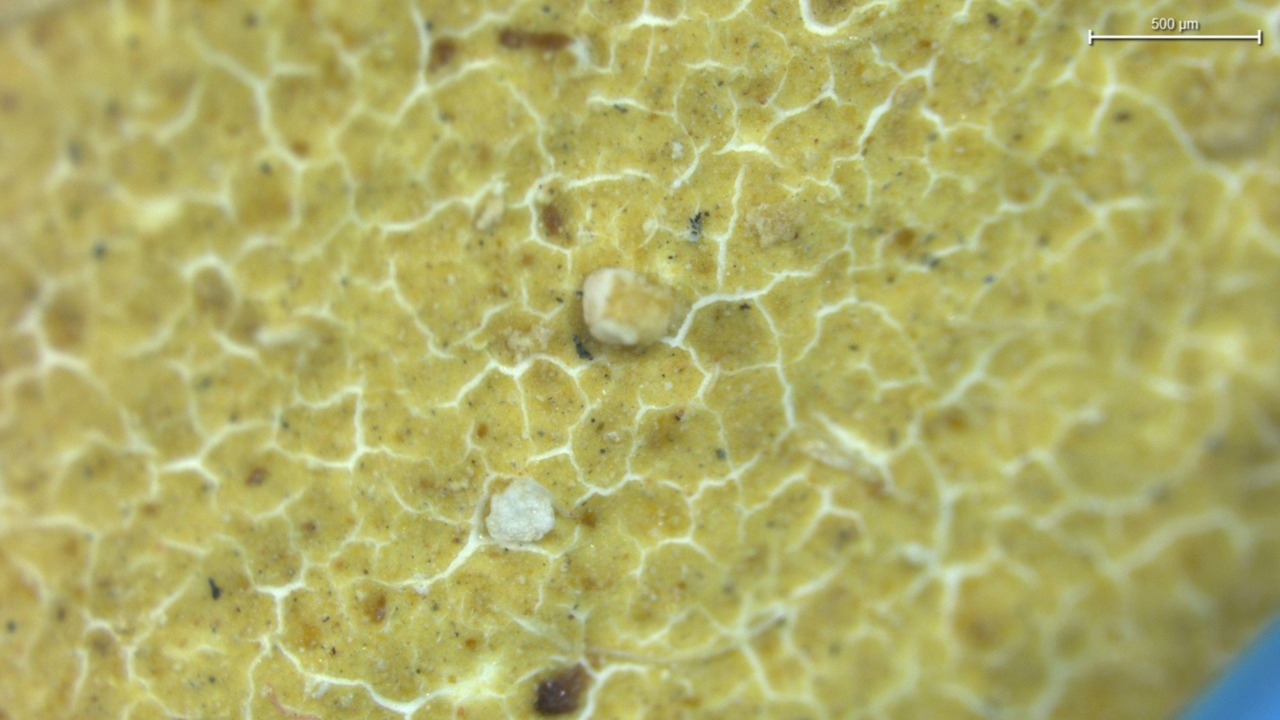microplastic_fragment: (583, 268, 680, 346), (485, 479, 555, 550)
